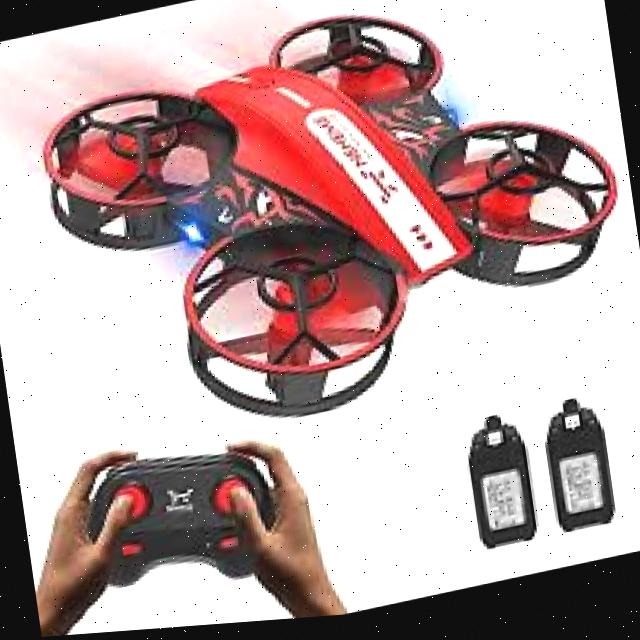drone: (11, 0, 640, 478)
